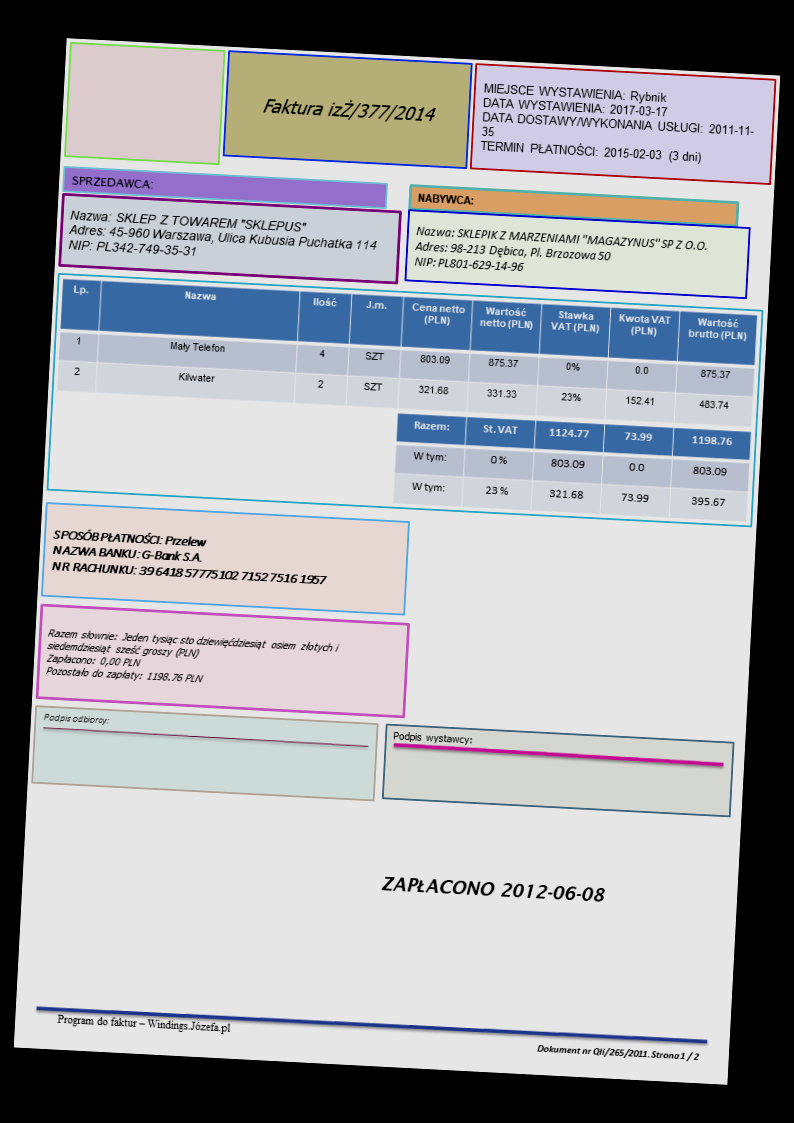Table: (55, 276, 759, 429), (390, 410, 754, 524)
TextBox: (478, 78, 760, 171), (65, 206, 380, 271), (44, 625, 345, 693), (411, 221, 711, 285), (48, 524, 331, 591), (380, 871, 606, 906), (258, 93, 440, 127), (54, 1008, 232, 1037), (534, 1039, 702, 1065), (389, 727, 475, 748), (67, 171, 155, 191), (41, 707, 111, 728), (414, 187, 475, 209)
